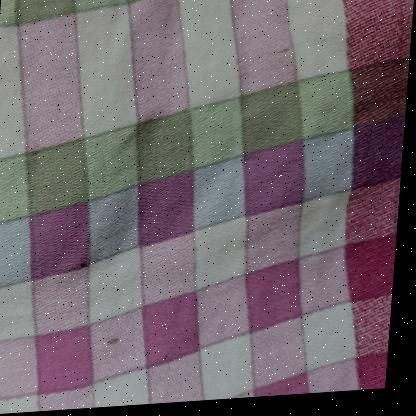spot: (107, 327, 130, 349), (78, 257, 95, 276), (272, 48, 291, 61)
